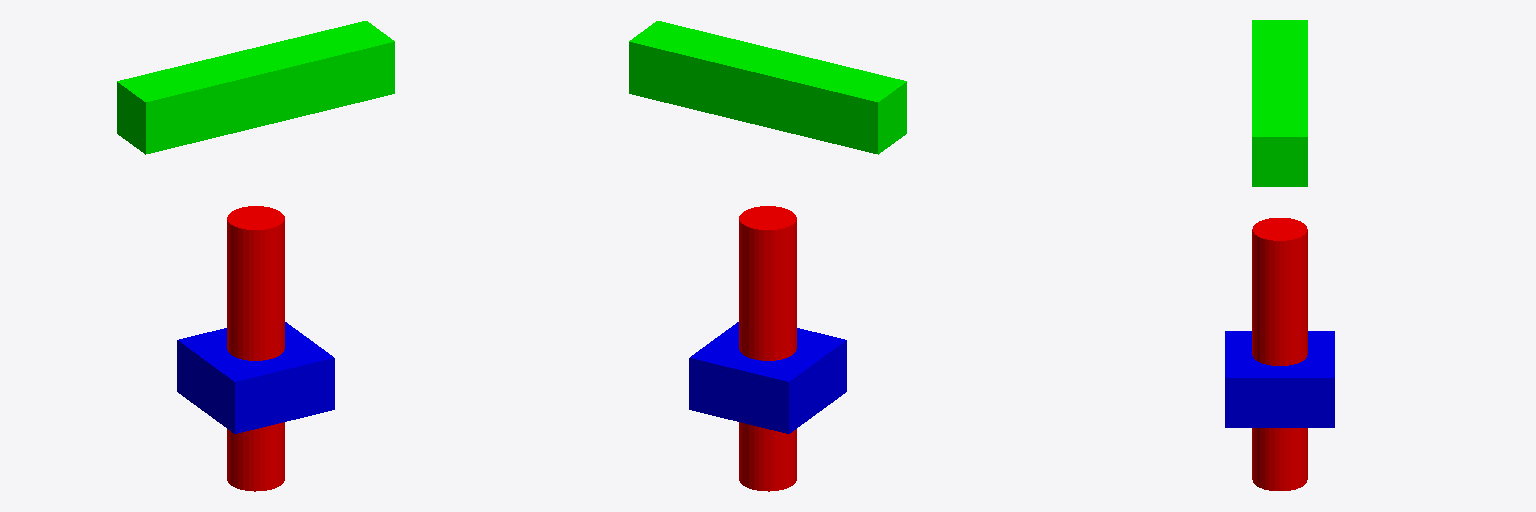
URDF robot description (two_joint_robot):
<?xml version="1.0"?>
<robot name="two_joint_robot">

  <!-- Base link -->
  <link name="base_link">
    <visual>
      <geometry>
        <box size="0.2 0.2 0.1"/>
      </geometry>
      <material name="blue">
        <color rgba="0 0 1 1"/>
      </material>
    </visual>
    <collision>
      <geometry>
        <box size="0.2 0.2 0.1"/>
      </geometry>
    </collision>
    <inertial>
      <mass value="1.0"/>
      <origin xyz="0 0 0" rpy="0 0 0"/>
      <inertia ixx="0.001" ixy="0" ixz="0" iyy="0.001" iyz="0" izz="0.001"/>
    </inertial>
  </link>

  <!-- Link 1 -->
  <link name="link1">
    <visual>
      <geometry>
        <cylinder radius="0.05" length="0.5"/>
      </geometry>
      <material name="red">
        <color rgba="1 0 0 1"/>
      </material>
    </visual>
    <collision>
      <geometry>
        <cylinder radius="0.05" length="0.5"/>
      </geometry>
    </collision>
    <inertial>
      <mass value="0.5"/>
      <origin xyz="0 0 0.25" rpy="0 0 0"/>
      <inertia ixx="0.001" ixy="0" ixz="0" iyy="0.001" iyz="0" izz="0.001"/>
    </inertial>
  </link>

  <!-- Link 2 -->
  <link name="link2">
    <visual>
      <geometry>
        <box size="0.5 0.1 0.1"/>
      </geometry>
      <material name="green">
        <color rgba="0 1 0 1"/>
      </material>
    </visual>
    <collision>
      <geometry>
        <box size="0.5 0.1 0.1"/>
      </geometry>
    </collision>
    <inertial>
      <mass value="0.5"/>
      <origin xyz="0.25 0 0" rpy="0 0 0"/>
      <inertia ixx="0.001" ixy="0" ixz="0" iyy="0.001" iyz="0" izz="0.001"/>
    </inertial>
  </link>

  <!-- Joint 1 (Revolute) -->
  <joint name="joint1" type="revolute">
    <parent link="base_link"/>
    <child link="link1"/>
    <origin xyz="0 0 0.05" rpy="0 0 0"/>
    <axis xyz="0 0 1"/>
    <limit lower="-1.5708" upper="1.5708" effort="10.0" velocity="1.0"/>
  </joint>

  <!-- Joint 2 (Fixed) -->
  <joint name="joint2" type="fixed">
    <parent link="link1"/>
    <child link="link2"/>
    <origin xyz="0 0 0.5" rpy="0 0 0"/>
  </joint>

</robot>

--- Facts derived from the render (not from the file) ---
3 views of the same robot in one strip: view 1: azimuth 30°, elevation 25°; view 2: azimuth 150°, elevation 25°; view 3: azimuth 270°, elevation 25° (orthographic).
Model two_joint_robot with 3 links and 2 joints (1 revolute, 1 fixed), rooted at base_link, posed all joints at 0.
Visible links, largest first — view 1: link2, link1, base_link; view 2: link2, link1, base_link; view 3: link1, link2, base_link.
Boxes of the visible links, left/top/right/bottom form: link2: left=117, top=21, right=394, bottom=154; link1: left=227, top=206, right=284, bottom=491; base_link: left=177, top=322, right=334, bottom=433; link2: left=629, top=21, right=906, bottom=154; link1: left=739, top=206, right=796, bottom=491; base_link: left=689, top=322, right=846, bottom=433; link1: left=1252, top=218, right=1307, bottom=490; link2: left=1252, top=20, right=1307, bottom=186; base_link: left=1225, top=331, right=1334, bottom=427.
Size in the robot's own frame: 0.5 by 0.2 by 0.8 metres.
Geometry: primitives only (box / cylinder / sphere), no mesh files.